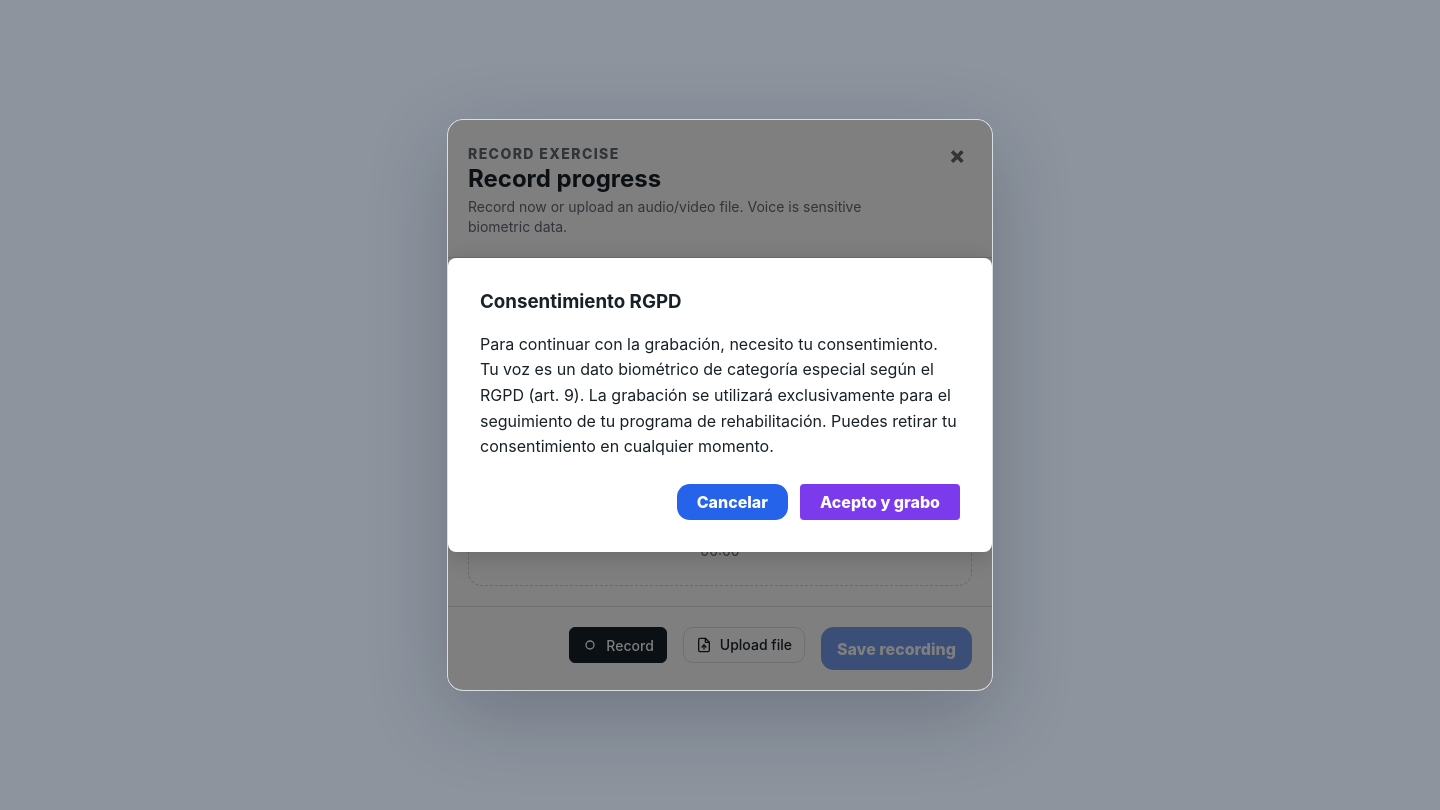
UC-05 RecordingDialog consent gate › dismisses ConsentModal and shows recording UI after successful grant
The image size is (1440, 810).
Click the button "Acepto y grabo".
click(880, 502)  # box [800,484,960,520]
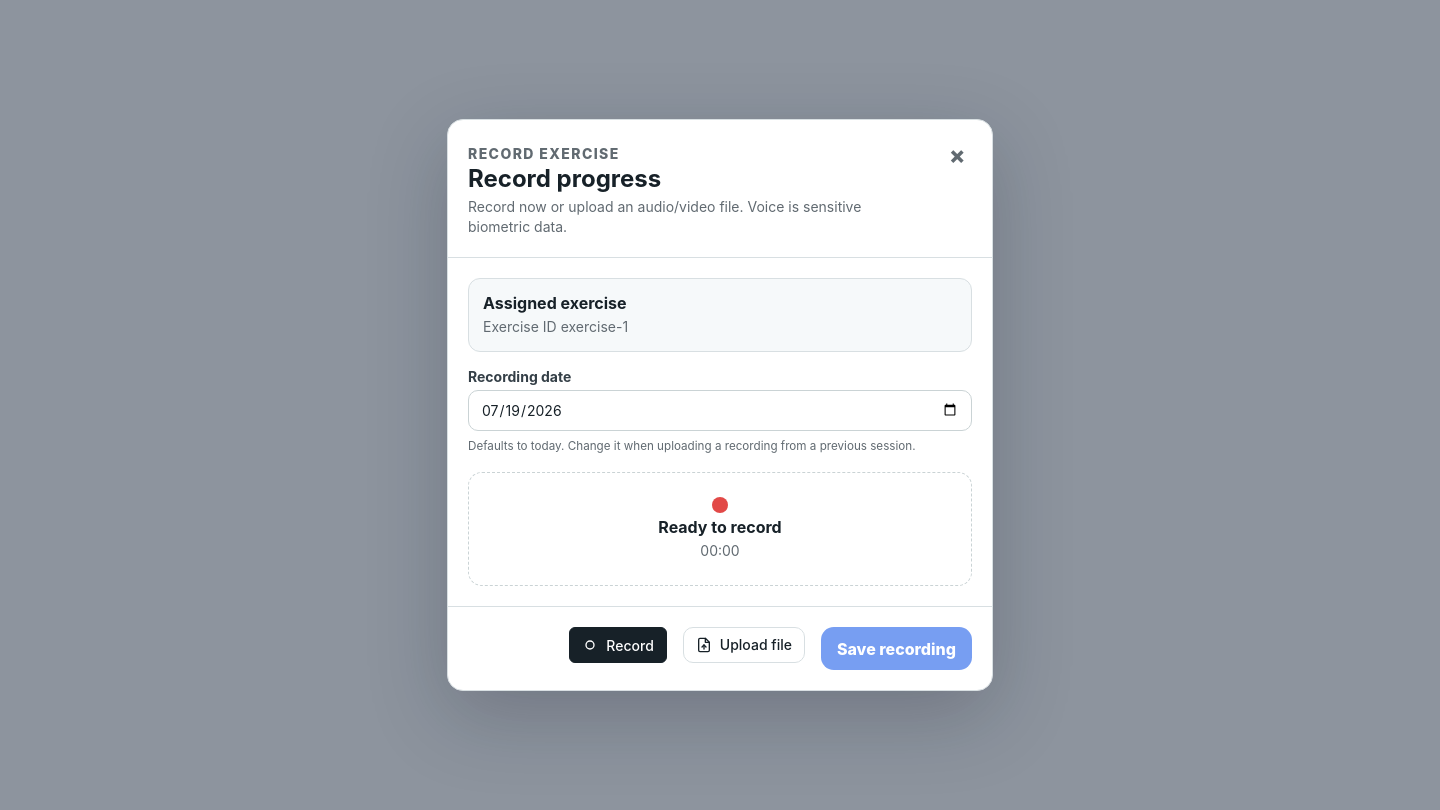
Expected: the button "Record" is shown, [569,627,667,663]
Now the heading "Consentimiento RGPD" is gone
